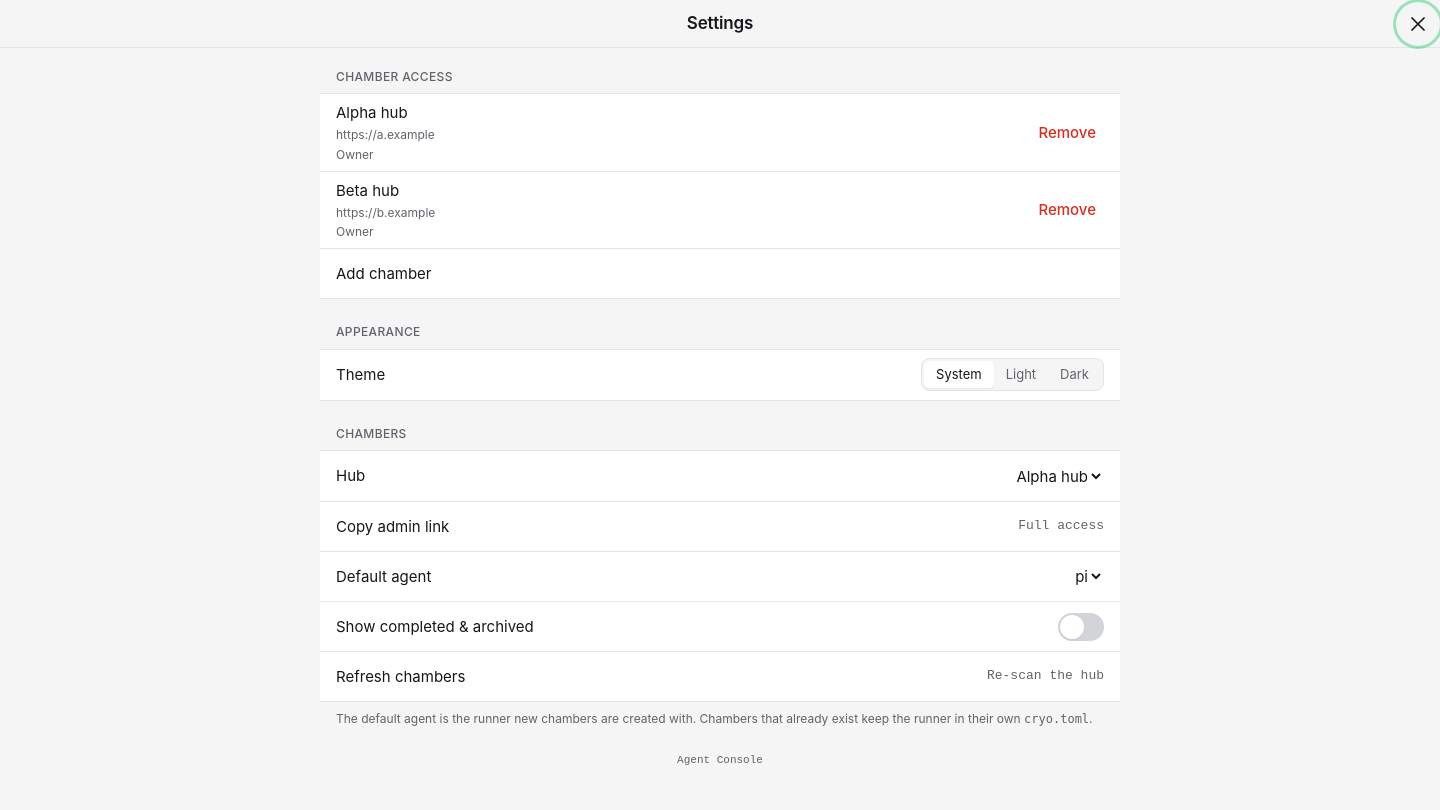
it: app mode › Add chamber opens the access-link form on top of the settings sheet
The width and height of the screenshot is (1440, 810).
Click the button "Add chamber" at coordinates (384, 274), box x1=320 y1=248 x2=1120 y2=298
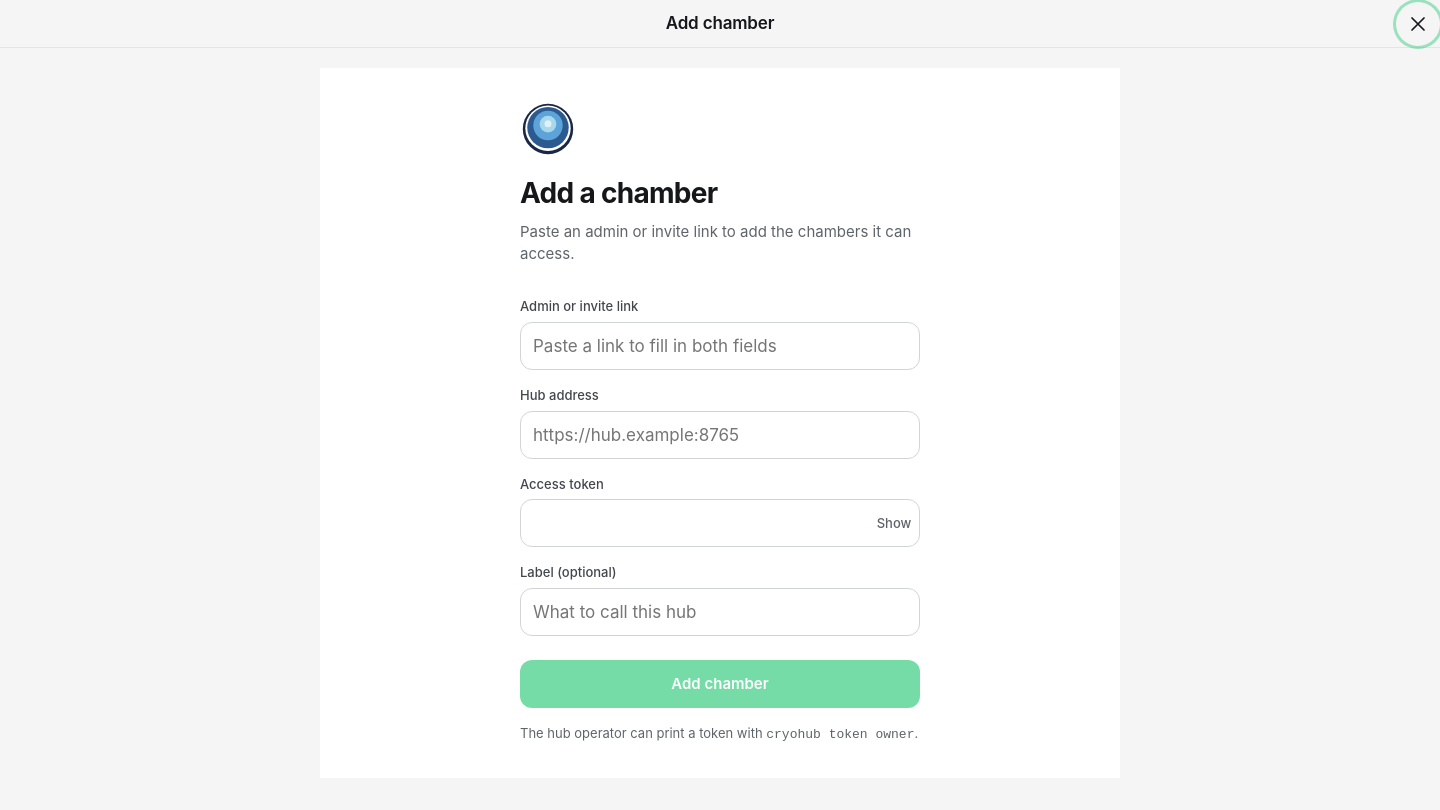
Expected: the heading "Add a chamber" is shown, x1=520 y1=176 x2=717 y2=210
